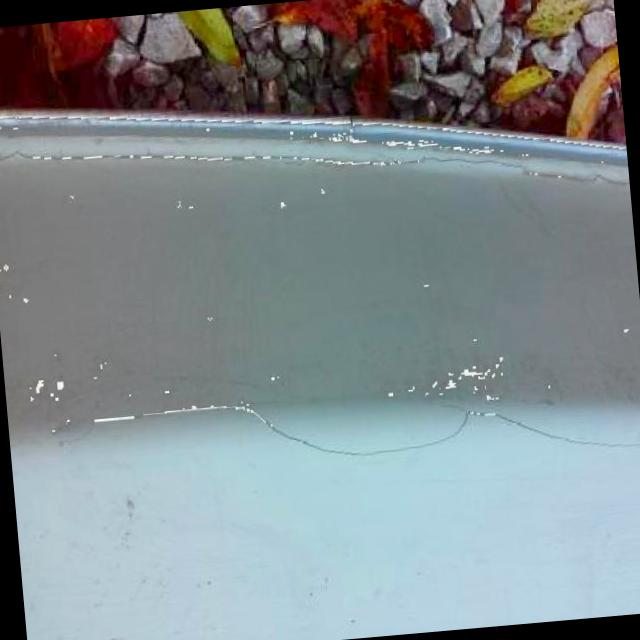crack: (467, 397, 640, 461), (274, 414, 468, 464), (398, 148, 522, 176), (524, 162, 626, 192)
